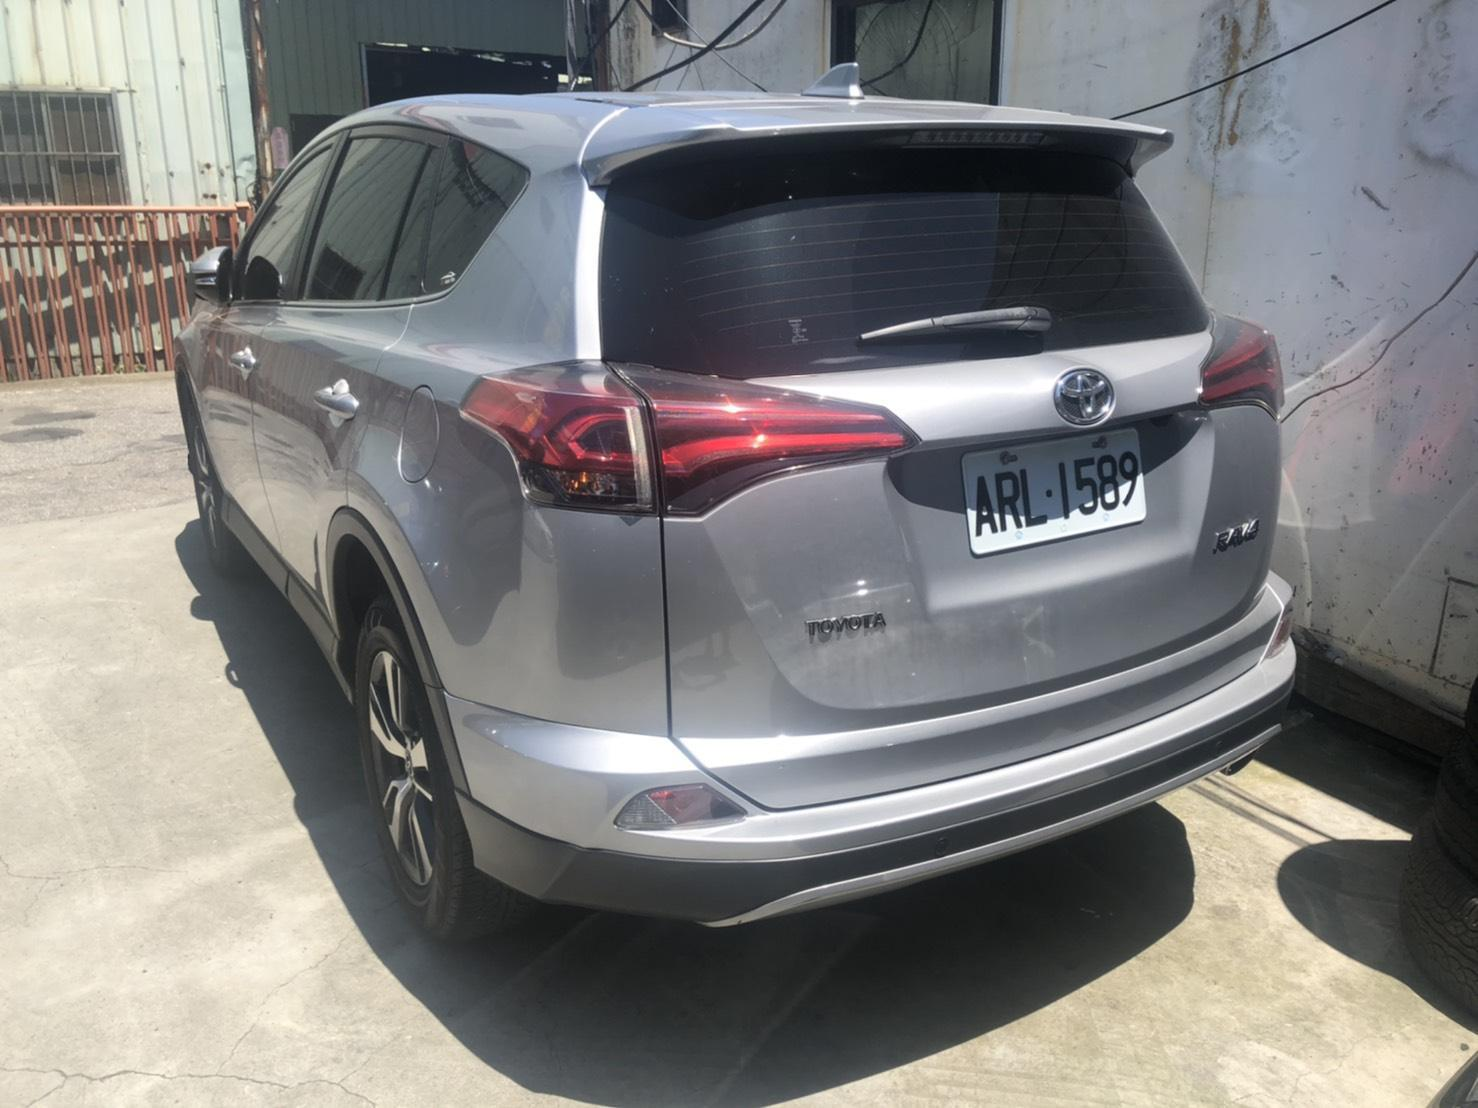toyota_rav4: (497, 109, 1278, 815)
